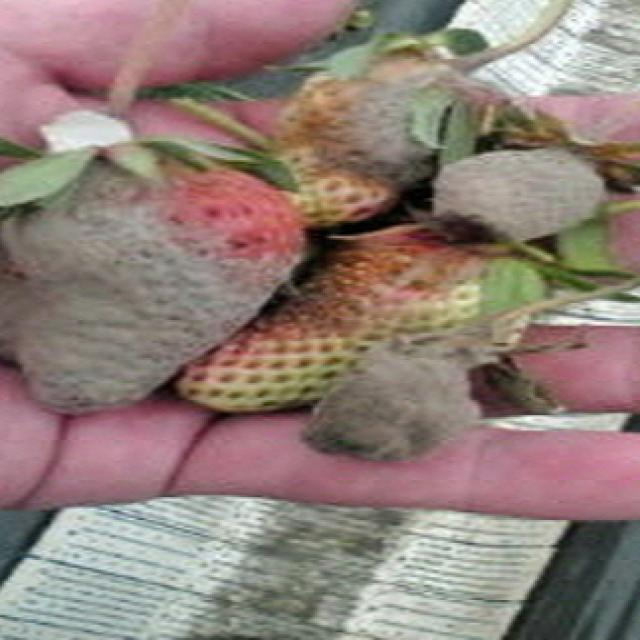Gray Mold: (0, 146, 310, 417), (179, 224, 494, 395), (264, 44, 542, 228), (297, 314, 503, 462), (431, 142, 608, 248)
